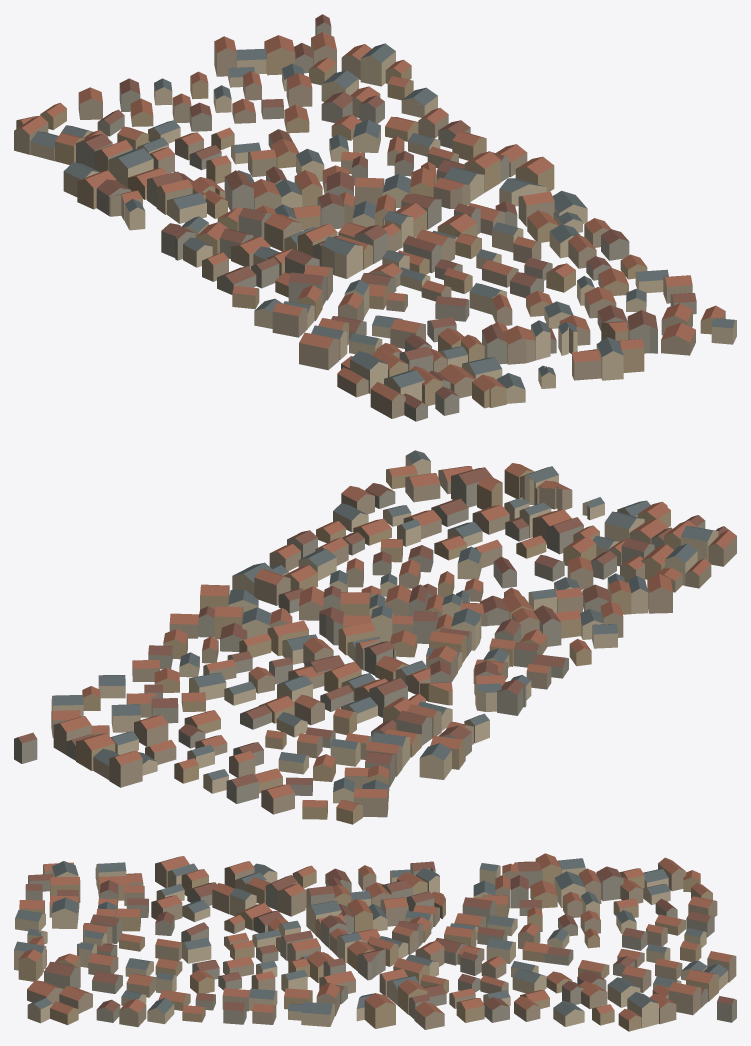
3 renders of one model, top to bottom at view 1: azimuth 30°, elevation 25°; view 2: azimuth 150°, elevation 25°; view 3: azimuth 270°, elevation 25°, orthographic. The views are drawn at different scales.
Parts seen in each view (by area): view 1: C_4_2; view 2: C_4_2; view 3: C_4_2.
Part boxes in pixels (x1,y1,x2,y2): C_4_2: (14,14,736,421); C_4_2: (14,450,736,824); C_4_2: (14,853,736,1031).
Bounding box in the file's own units: 191 × 14.35 × 372.
